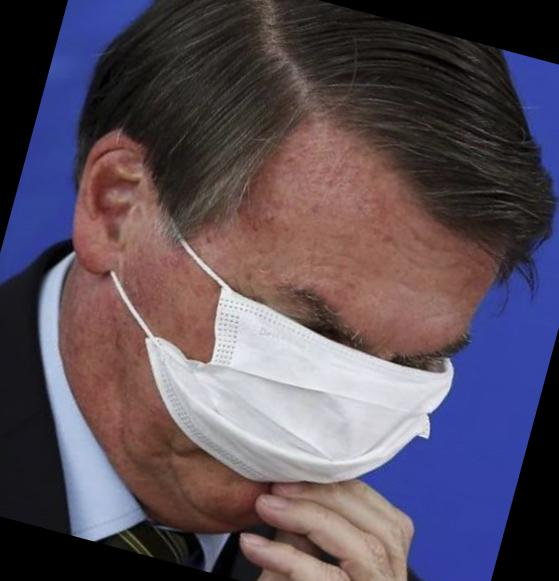mask_weared_incorrect: (116, 206, 513, 581)
